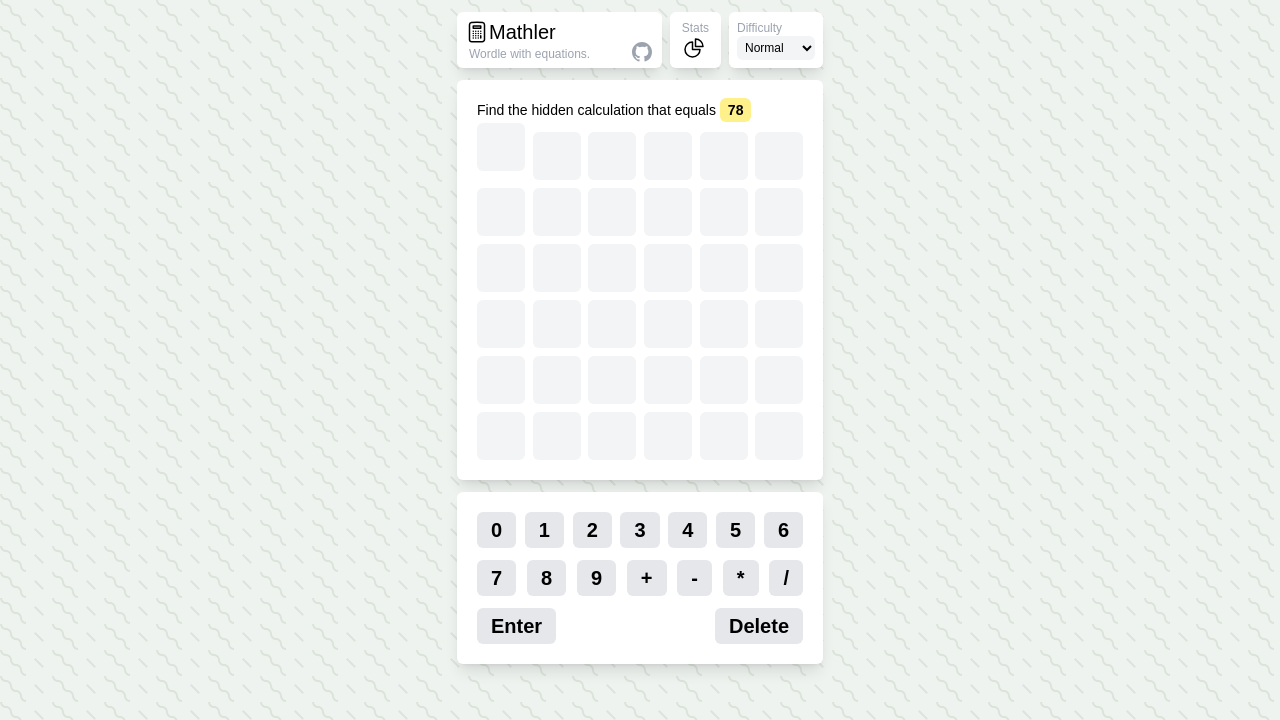
Test: Board page with InputGrid and Success State › adds a tile value to the board
// Click the input button with the id `input-button-1`
Click the button with test id "input-button-1" at (545, 530), box [525, 512, 564, 548]
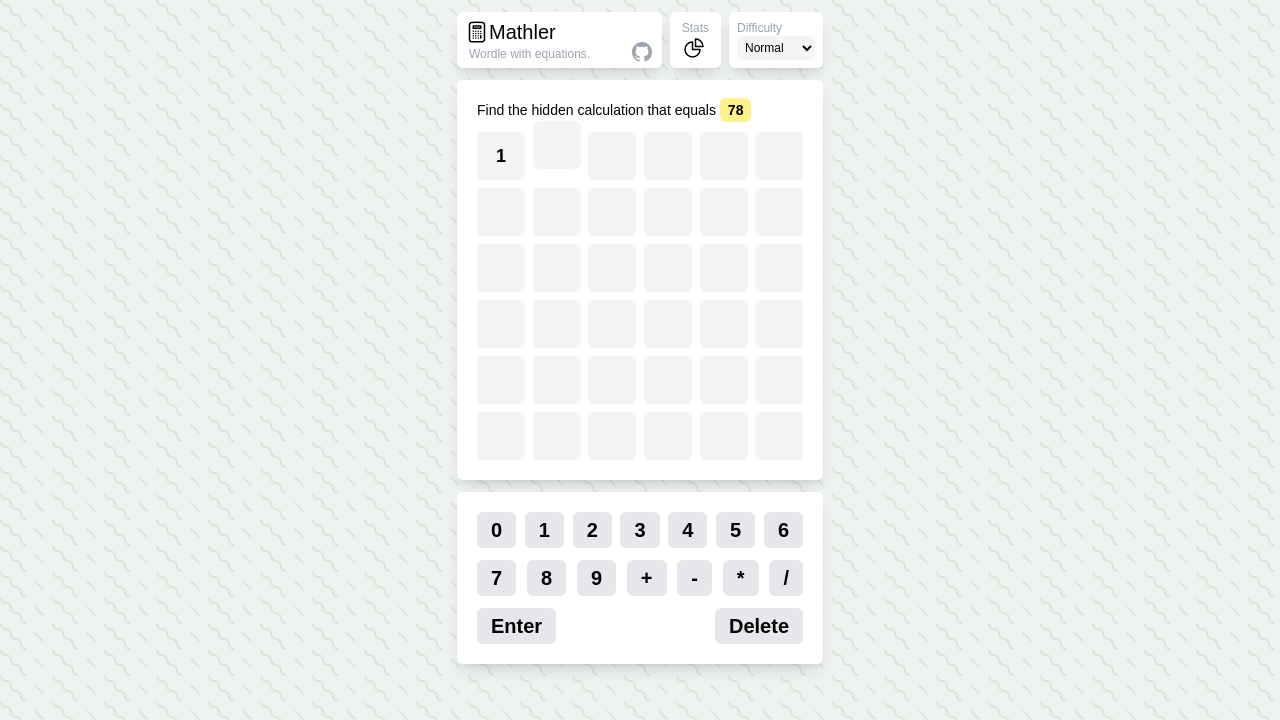
Check: the element with test id "board-values" reads "1", box [477, 132, 803, 460]
